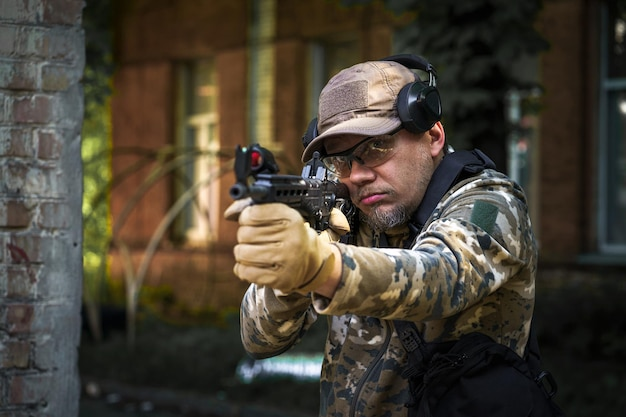gun: (228, 143, 358, 234)
